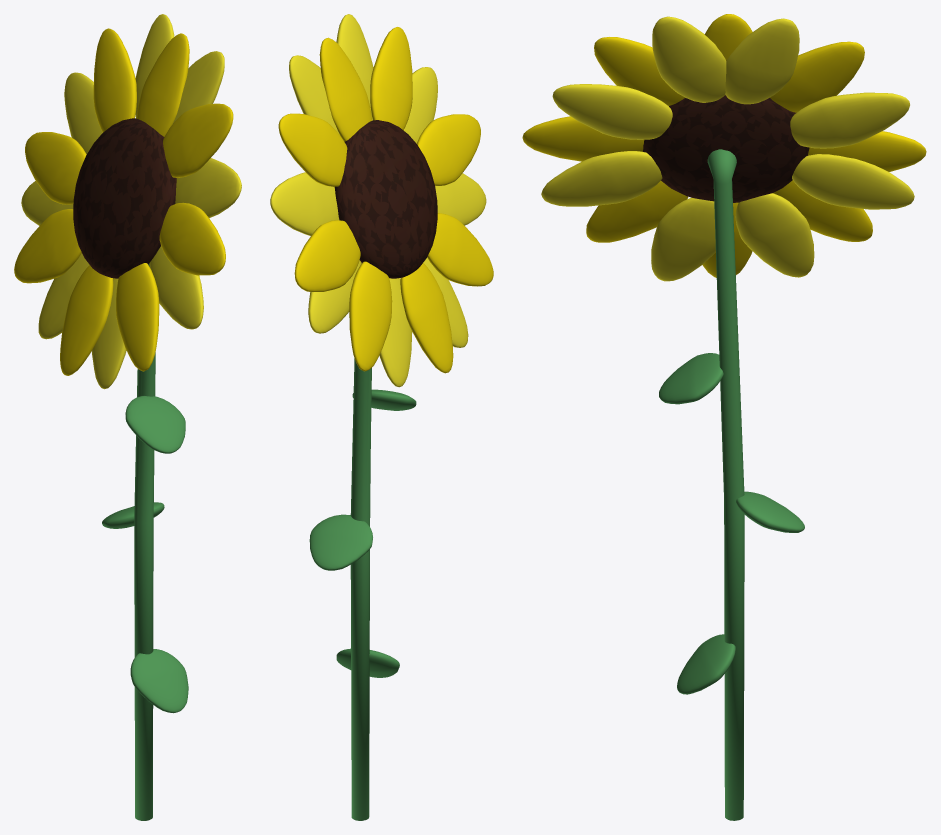
File: sunflowercp.glb
The picture shows the model from 3 angles, left to right: view 1: azimuth 30°, elevation 25°; view 2: azimuth 150°, elevation 25°; view 3: azimuth 270°, elevation 25°; orthographic projection. The views are drawn at different scales.
Parts seen in each view (by area): view 1: sunflower; view 2: sunflower; view 3: sunflower.
Boxes of the visible parts, x1,y1,x2,y2 form: sunflower: (14,14,241,820); sunflower: (270,14,493,820); sunflower: (522,14,926,820).
Size of the model in its own units: 0.787 by 4.42 by 1.97.
5 materials, 1 textured.
